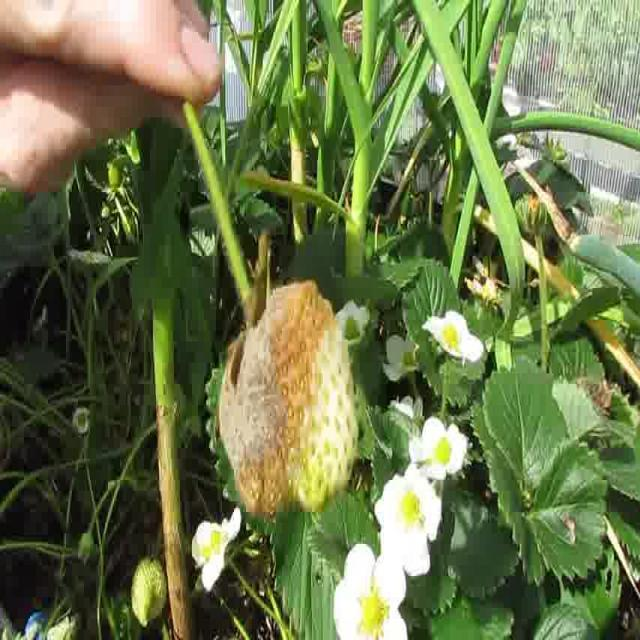Moho gris: (212, 284, 354, 518)
